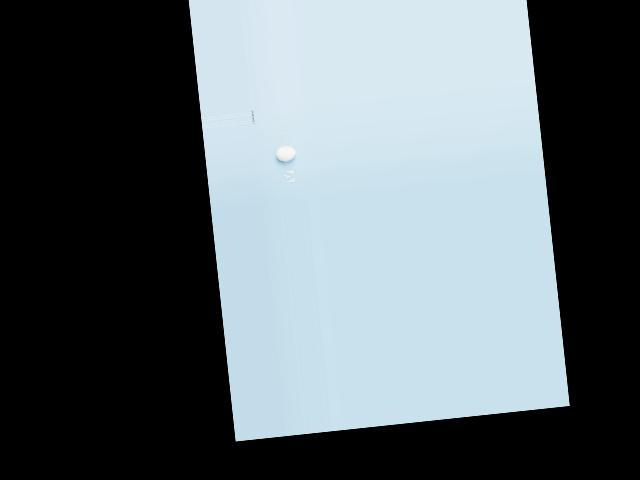egg: (275, 145, 295, 162)
